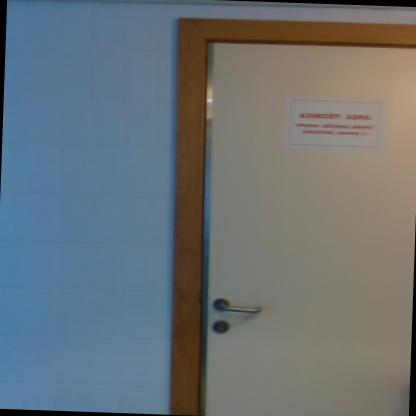closed: (163, 9, 416, 416)
